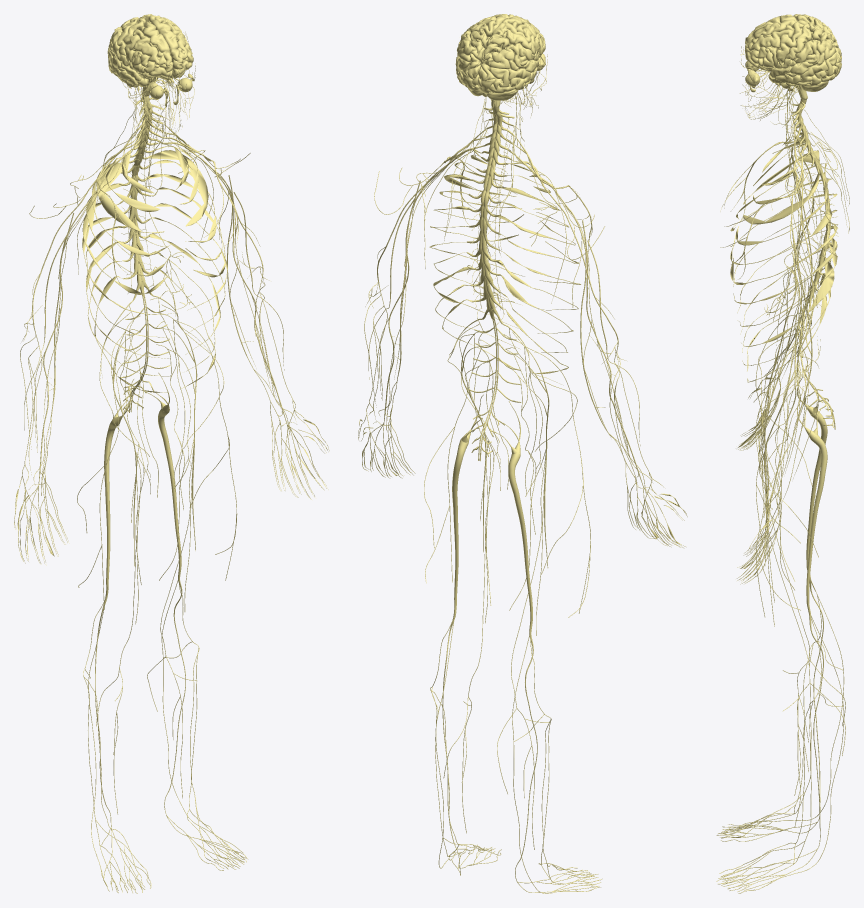
File: nervous.glb
3 renders of one model, left to right at view 1: azimuth 30°, elevation 25°; view 2: azimuth 150°, elevation 25°; view 3: azimuth 270°, elevation 25°, orthographic. The views are drawn at different scales.
Visible parts, largest first — view 1: Intercostal nerves.001x, Intercostal nerves, Spinal dura.001x, Spinal dura, Sciatic nerve, Sciatic nerve.001x, Middle frontal gyrus.001x; view 2: Spinal dura.001x, Intercostal nerves.001x, Intercostal nerves, Spinal dura, Sciatic nerve, Sciatic nerve.001x, Saphenous nerve.001x; view 3: Intercostal nerves, Intercostal nerves.001x, Spinal dura.001x, Sciatic nerve.001x, Sciatic nerve, Middle frontal gyrus, Saphenous nerve, Spinal dura, Lateral femoral cutaneous nerve.001x, Saphenous nerve.001x, Precentral gyrus.001x, Middle temporal gyrus.001x (+17 smaller).
Boxes of the visible parts, left/top/right/bottom form: Intercostal nerves.001x: left=82, top=151, right=173, bottom=392; Intercostal nerves: left=148, top=143, right=227, bottom=389; Spinal dura.001x: left=118, top=96, right=163, bottom=299; Spinal dura: left=119, top=105, right=170, bottom=412; Sciatic nerve: left=104, top=379, right=133, bottom=595; Sciatic nerve.001x: left=145, top=372, right=181, bottom=577; Middle frontal gyrus.001x: left=132, top=29, right=166, bottom=73; Spinal dura.001x: left=467, top=106, right=514, bottom=323; Intercostal nerves.001x: left=496, top=164, right=580, bottom=373; Intercostal nerves: left=429, top=154, right=524, bottom=368; Spinal dura: left=467, top=141, right=521, bottom=461; Sciatic nerve: left=495, top=401, right=532, bottom=632; Sciatic nerve.001x: left=452, top=394, right=483, bottom=613; Saphenous nerve.001x: left=497, top=452, right=545, bottom=849; Intercostal nerves: left=730, top=157, right=837, bottom=382; Intercostal nerves.001x: left=730, top=141, right=837, bottom=371; Spinal dura.001x: left=792, top=98, right=830, bottom=308; Sciatic nerve.001x: left=797, top=386, right=827, bottom=613; Sciatic nerve: left=797, top=374, right=827, bottom=577; Middle frontal gyrus: left=746, top=29, right=794, bottom=63; Saphenous nerve: left=761, top=454, right=845, bottom=827; Spinal dura: left=792, top=104, right=835, bottom=429; Lateral femoral cutaneous nerve.001x: left=755, top=340, right=818, bottom=617; Saphenous nerve.001x: left=762, top=424, right=845, bottom=795; Precentral gyrus.001x: left=776, top=21, right=803, bottom=63; Middle temporal gyrus.001x: left=774, top=60, right=828, bottom=84.
Bounding box in the file's own units: 4.67 × 11.85 × 1.7.
